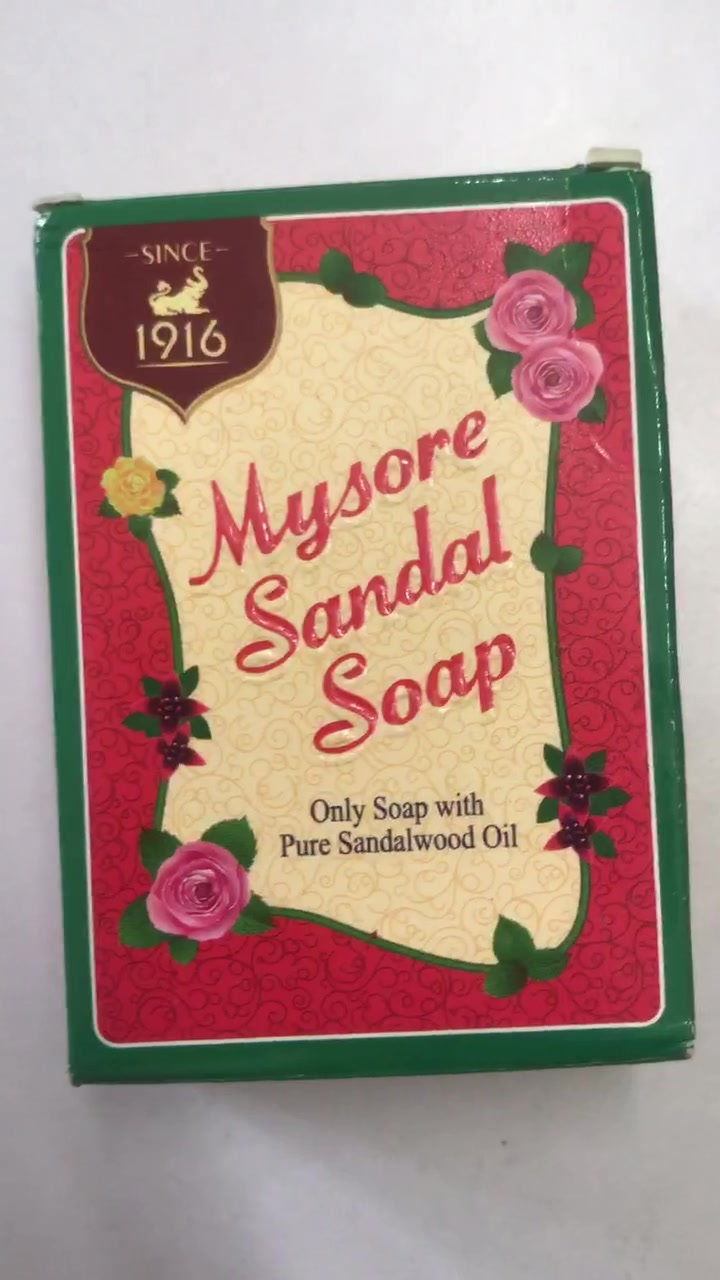mysore sandal soap: (30, 175, 698, 1078)
